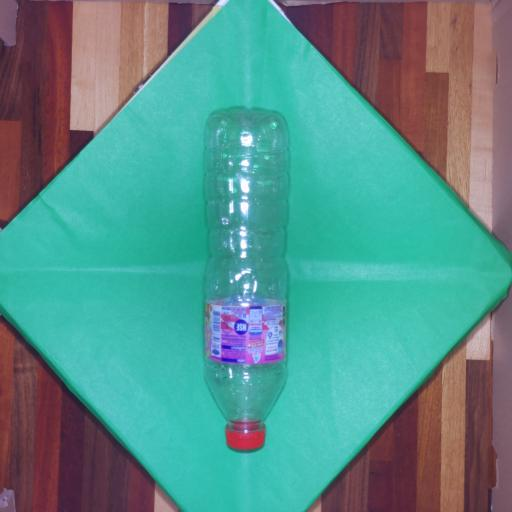bottle: (205, 102, 293, 452)
